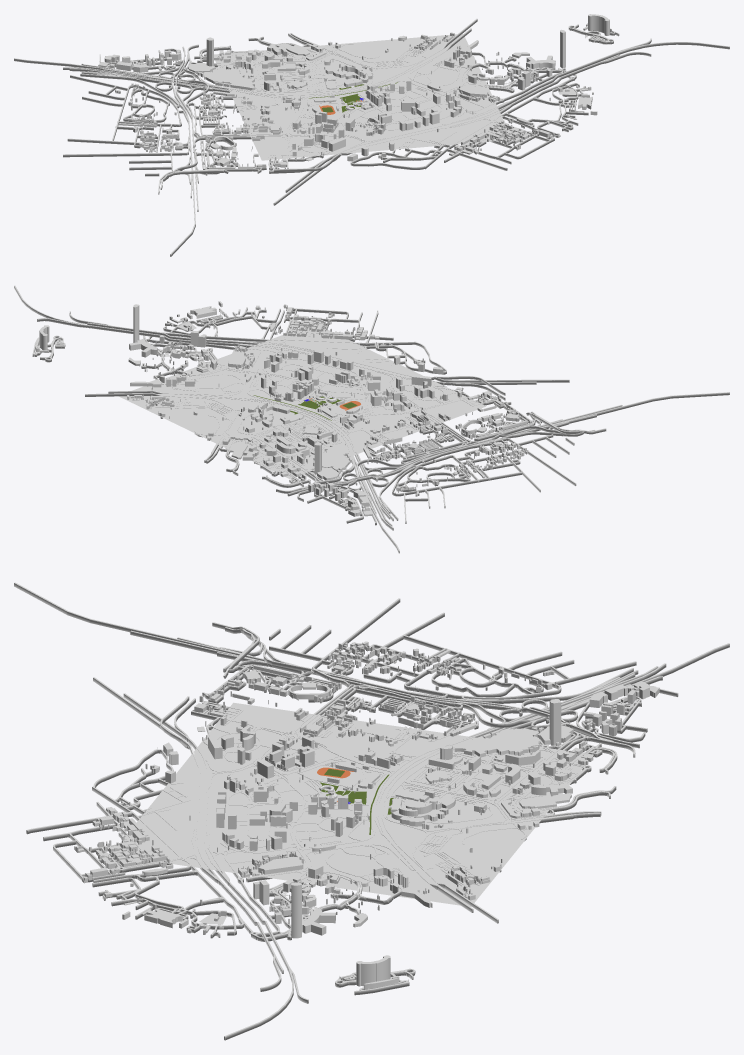
File: Al_Jaddaf_mini_map.glb
The picture shows the model from 3 angles, top to bottom: view 1: azimuth 30°, elevation 25°; view 2: azimuth 150°, elevation 25°; view 3: azimuth 270°, elevation 25°; orthographic projection. The views are drawn at different scales.
Parts seen in each view (by area): view 1: road, Build, ground, tree; view 2: road, Build, ground, tree; view 3: road, Build, ground, tree.
Boxes of the visible parts, bbox=[...] form: road: bbox=[14, 18, 729, 256]; Build: bbox=[98, 14, 611, 169]; ground: bbox=[214, 33, 512, 160]; tree: bbox=[309, 82, 397, 114]; road: bbox=[14, 285, 729, 553]; Build: bbox=[35, 301, 531, 516]; ground: bbox=[119, 323, 485, 478]; tree: bbox=[253, 395, 360, 420]; road: bbox=[14, 582, 729, 1040]; Build: bbox=[74, 641, 659, 988]; ground: bbox=[110, 702, 593, 906]; tree: bbox=[317, 767, 395, 834].
Bounding box in the file's own units: 5688 × 325 × 3757.
Materials: 8 (1 with a texture image).
